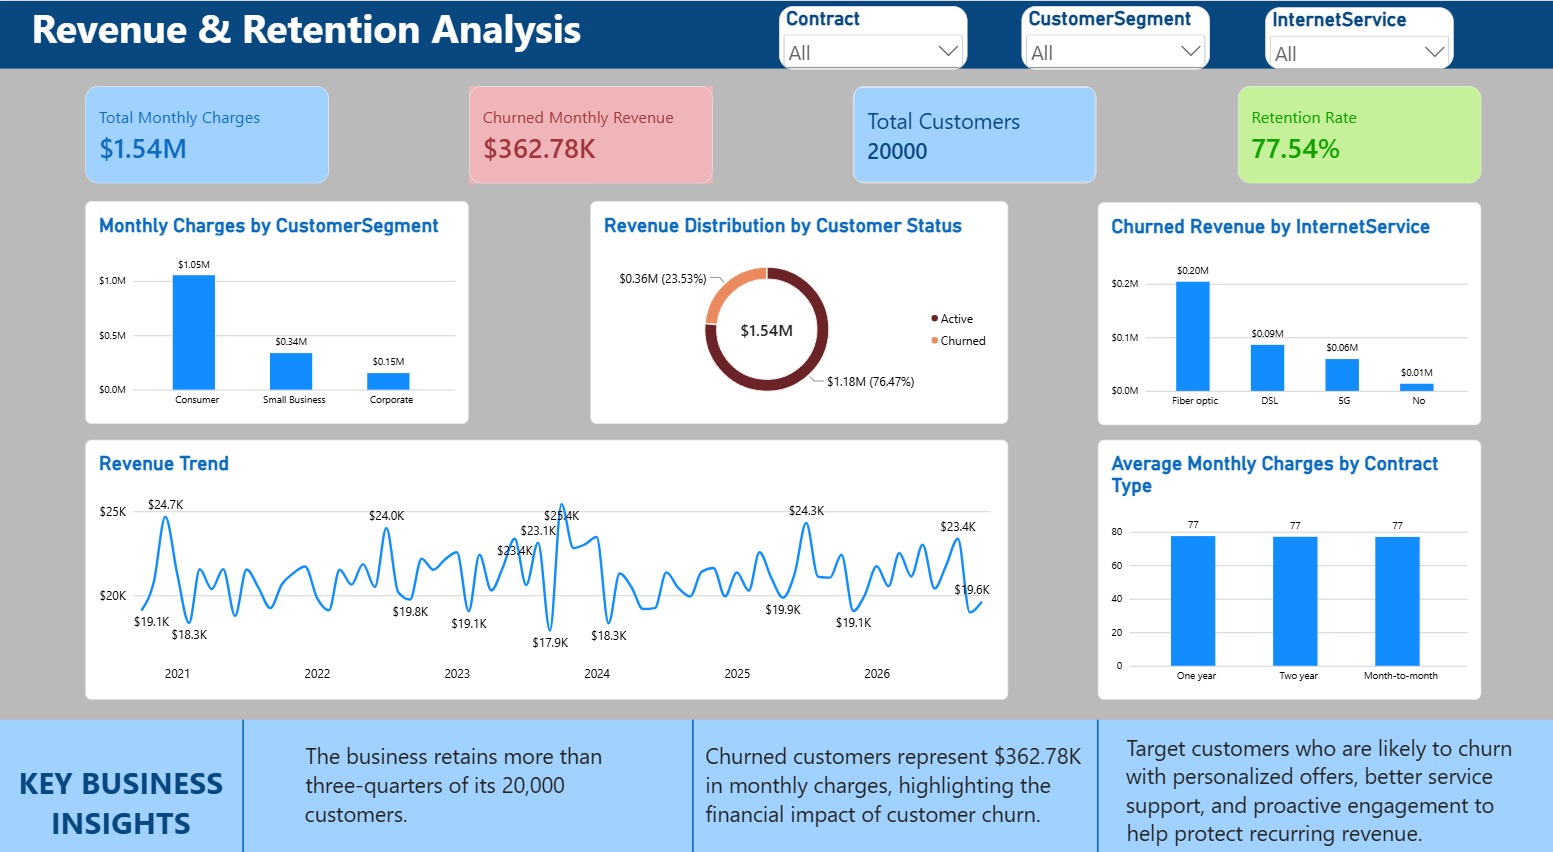

Layout of this report page (visuals, bound fields, positions):
{"tool":"powerbi","page":{"name":"Revenue and Retention Analysis","canvas":[1920,1080],"ordinal":3},"visuals":[{"type":"textbox","box":[0,0,1920,83.3],"z":0},{"type":"slicer","fields":{"Values":["Customer Churn Analysis Dataset.CustomerSegment"]},"box":[1259,6,232,78],"z":0},{"type":"slicer","fields":{"Values":["Dim Contract.Contract"]},"box":[960,6,232,78],"z":1},{"type":"slicer","fields":{"Values":["Dim Internet Service.InternetService"]},"box":[1558,8,232,76],"z":2},{"type":"cardVisual","fields":{"Data":["DAX Measures.Retention Rate %"]},"box":[1524,104,300,120],"z":3},{"type":"cardVisual","fields":{"Data":["DAX Measures.Churned Monthly Revenue"]},"box":[578.7,104,300,120],"z":4},{"type":"cardVisual","fields":{"Data":["DAX Measures.Total Monthly Charges"]},"box":[106,104,300,120],"z":5},{"type":"cardVisual","fields":{"Data":["DAX Measures.Total Customers"]},"box":[1051.3,104,300,120],"z":6},{"type":"clusteredColumnChart","title":"Monthly Charges by CustomerSegment","fields":{"Category":["Dim Customer Segment.CustomerSegment"],"Y":["DAX Measures.Total Monthly Charges"]},"box":[106,246,472,274],"z":7},{"type":"clusteredColumnChart","title":"Average Monthly Charges by Contract Type","fields":{"Category":["Dim Contract.Contract"],"Y":["DAX Measures.Average Monthly Charges"]},"box":[1352,540,472,320],"z":8},{"type":"clusteredColumnChart","title":"Churned  Revenue by InternetService","fields":{"Category":["Dim Internet Service.InternetService"],"Y":["DAX Measures.Churned Monthly Revenue"]},"box":[1352,248,472,274],"z":9},{"type":"lineChart","title":"Revenue Trend","fields":{"Category":["DimDate.Date.Variation.Date Hierarchy.Year","DimDate.Date.Variation.Date Hierarchy.Month"],"Y":["DAX Measures.Total Monthly Charges"]},"box":[106,540,1136,320],"z":10},{"type":"donutChart","title":"Revenue Distribution by Customer Status","fields":{"Category":["Customer Churn Analysis Dataset.Customer Status"],"Y":["DAX Measures.Total Monthly Charges"]},"box":[728,246,514,274],"z":11},{"type":"textbox","box":[0,884,1920,196],"z":12,"group":"g1"},{"type":"textbox","box":[0,934,300,146],"z":13,"group":"g1"},{"type":"group","id":"g1","title":"Group 1","box":[0,884,1920,196],"z":14},{"type":"shape","box":[278,884,44,196],"z":15,"group":"g1"},{"type":"textbox","box":[362,910,434,124],"z":15,"group":"g1"},{"type":"shape","box":[840,884,28,196],"z":16},{"type":"shape","box":[1312,884,80,196],"z":17},{"type":"textbox","box":[854,910,498,148],"z":17,"group":"g1"},{"type":"textbox","box":[1372,900,526,180],"z":18,"group":"g1"}]}

Visuals, with their boxes in screenshot pixels (x1, y1, x2, y2), scaled from the page's 1920x1080 canvas onto the 1553x852 screenshot:
textbox: Rect(0, 0, 1552, 66)
slicer - Customer Churn Analysis Dataset.CustomerSegment: Rect(1018, 5, 1206, 66)
slicer - Dim Contract.Contract: Rect(776, 5, 964, 66)
slicer - Dim Internet Service.InternetService: Rect(1260, 6, 1448, 66)
cardVisual - DAX Measures.Retention Rate %: Rect(1233, 82, 1475, 177)
cardVisual - DAX Measures.Churned Monthly Revenue: Rect(468, 82, 711, 177)
cardVisual - DAX Measures.Total Monthly Charges: Rect(86, 82, 328, 177)
cardVisual - DAX Measures.Total Customers: Rect(850, 82, 1093, 177)
"Monthly Charges by CustomerSegment" clusteredColumnChart: Rect(86, 194, 468, 410)
"Average Monthly Charges by Contract Type" clusteredColumnChart: Rect(1094, 426, 1475, 678)
"Churned  Revenue by InternetService" clusteredColumnChart: Rect(1094, 196, 1475, 412)
"Revenue Trend" lineChart: Rect(86, 426, 1005, 678)
"Revenue Distribution by Customer Status" donutChart: Rect(589, 194, 1005, 410)
textbox: Rect(0, 697, 1552, 851)
textbox: Rect(0, 737, 243, 851)
"Group 1" group: Rect(0, 697, 1552, 851)
shape: Rect(225, 697, 260, 851)
textbox: Rect(293, 718, 644, 816)
shape: Rect(679, 697, 702, 851)
shape: Rect(1061, 697, 1126, 851)
textbox: Rect(691, 718, 1094, 835)
textbox: Rect(1110, 710, 1535, 851)
